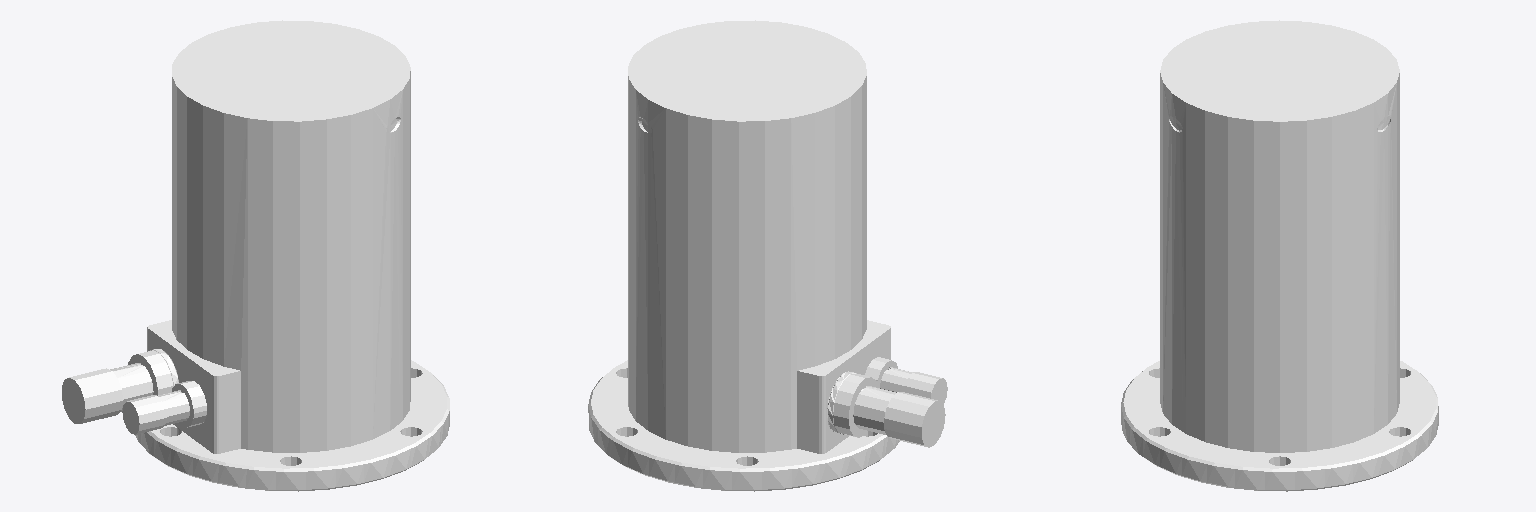
The robot description file, URDF, robot "xarm6":
<?xml version="1.0" encoding="utf-8"?>
<robot name="xarm6">
  <link name="world"/>
  <joint name="world_joint" type="fixed">
    <parent link="world"/>
    <child link="link_base"/>
    <origin rpy="0 0 0" xyz="0 0 0"/>
  </joint>
  <material name="Black">
    <color rgba="0.0 0.0 0.0 1.0"/>
  </material>
  <material name="Red">
    <color rgba="0.8 0.0 0.0 1.0"/>
  </material>
  <material name="White">
    <color rgba="1.0 1.0 1.0 1.0"/>
  </material>
  <material name="Silver">
    <color rgba="0.753 0.753 0.753 1.0"/>
  </material>
  <link name="link_base">
    <visual>
      <geometry>
        <mesh filename="meshes/visual/base.stl"/>
      </geometry>
      <origin rpy="0 0 0" xyz="0 0 0"/>
      <material name="White"/>
    </visual>
    <collision>
      <geometry>
        <mesh filename="meshes/visual/base.stl"/>
      </geometry>
      <origin rpy="0 0 0" xyz="0 0 0"/>
    </collision>
    <inertial>
      <origin rpy="0 0 0" xyz="0.0 0.0 0.09103"/>
      <mass value="2.7"/>
      <inertia ixx="0.00494875" ixy="-3.5E-06" ixz="1.25E-05" iyy="0.00494174" iyz="1.67E-06" izz="0.002219"/>
    </inertial>
  </link>
  <link name="link1">
    <visual>
      <geometry>
        <mesh filename="meshes/visual/link1.stl"/>
      </geometry>
      <origin rpy="0 0 0" xyz="0 0 0"/>
      <material name="White"/>
    </visual>
    <collision>
      <geometry>
        <mesh filename="meshes/visual/link1.stl"/>
      </geometry>
      <origin rpy="0 0 0" xyz="0 0 0"/>
    </collision>
    <inertial>
      <origin rpy="0 0 0" xyz="-0.002 0.02692 -0.01332"/>
      <mass value="2.16"/>
      <inertia ixx="0.00539427" ixy="1.095E-05" ixz="1.635E-06" iyy="0.0048979" iyz="0.000793" izz="0.00311573"/>
    </inertial>
  </link>
  <joint name="joint1" type="revolute">
    <parent link="link_base"/>
    <child link="link1"/>
    <origin rpy="0 0 0" xyz="0 0 0.267"/>
    <axis xyz="0 0 1"/>
    <limit effort="50.0" lower="-6.28318530718" upper="6.28318530718" velocity="3.14"/>
    <dynamics damping="1.0" friction="1.0"/>
  </joint>
  <link name="link2">
    <visual>
      <geometry>
        <mesh filename="meshes/visual/link2.stl"/>
      </geometry>
      <origin rpy="0 0 0" xyz="0 0 0"/>
      <material name="White"/>
    </visual>
    <collision>
      <geometry>
        <mesh filename="meshes/visual/link2.stl"/>
      </geometry>
      <origin rpy="0 0 0" xyz="0 0 0"/>
    </collision>
    <inertial>
      <origin rpy="0 0 0" xyz="0.03531 -0.21398 0.03386"/>
      <mass value="1.71"/>
      <inertia ixx="0.0248674" ixy="-0.00430651" ixz="-0.00067797" iyy="0.00485548" iyz="0.00457245" izz="0.02387827"/>
    </inertial>
  </link>
  <joint name="joint2" type="revolute">
    <parent link="link1"/>
    <child link="link2"/>
    <origin rpy="-1.5708 0 0" xyz="0 0 0"/>
    <axis xyz="0 0 1"/>
    <limit effort="50.0" lower="-2.059" upper="2.0944" velocity="3.14"/>
    <dynamics damping="1.0" friction="1.0"/>
  </joint>
  <link name="link3">
    <visual>
      <geometry>
        <mesh filename="meshes/visual/link3.stl"/>
      </geometry>
      <origin rpy="0 0 0" xyz="0 0 0"/>
      <material name="White"/>
    </visual>
    <collision>
      <geometry>
        <mesh filename="meshes/visual/link3.stl"/>
      </geometry>
      <origin rpy="0 0 0" xyz="0 0 0"/>
    </collision>
    <inertial>
      <origin rpy="0 0 0" xyz="0.06781 0.10749 0.01457"/>
      <mass value="1.384"/>
      <inertia ixx="0.0053694" ixy="0.0014185" ixz="-0.00092094" iyy="0.0032423" iyz="-0.00169178" izz="0.00501731"/>
    </inertial>
  </link>
  <joint name="joint3" type="revolute">
    <parent link="link2"/>
    <child link="link3"/>
    <origin rpy="0 0 0" xyz="0.0535 -0.2845 0"/>
    <axis xyz="0 0 1"/>
    <limit effort="32.0" lower="-3.927" upper="0.19198" velocity="3.14"/>
    <dynamics damping="1.0" friction="1.0"/>
  </joint>
  <link name="link4">
    <visual>
      <geometry>
        <mesh filename="meshes/visual/link4.stl"/>
      </geometry>
      <origin rpy="0 0 0" xyz="0 0 0"/>
      <material name="White"/>
    </visual>
    <collision>
      <geometry>
        <mesh filename="meshes/visual/link4.stl"/>
      </geometry>
      <origin rpy="0 0 0" xyz="0 0 0"/>
    </collision>
    <inertial>
      <origin rpy="0 0 0" xyz="-0.00021 0.02578 -0.02538"/>
      <mass value="1.115"/>
      <inertia ixx="0.00439263" ixy="5.028E-05" ixz="1.374E-05" iyy="0.0040077" iyz="0.00045338" izz="0.00110321"/>
    </inertial>
  </link>
  <joint name="joint4" type="revolute">
    <parent link="link3"/>
    <child link="link4"/>
    <origin rpy="-1.5708 0 0" xyz="0.0775 0.3425 0"/>
    <axis xyz="0 0 1"/>
    <limit effort="32.0" lower="-6.28318530718" upper="6.28318530718" velocity="3.14"/>
    <dynamics damping="1.0" friction="1.0"/>
  </joint>
  <link name="link5">
    <visual>
      <geometry>
        <mesh filename="meshes/visual/link5.stl"/>
      </geometry>
      <origin rpy="0 0 0" xyz="0 0 0"/>
      <material name="White"/>
    </visual>
    <collision>
      <geometry>
        <mesh filename="meshes/visual/link5.stl"/>
      </geometry>
      <origin rpy="0 0 0" xyz="0 0 0"/>
    </collision>
    <inertial>
      <origin rpy="0 0 0" xyz="0.05428 0.01781 0.00543"/>
      <mass value="1.275"/>
      <inertia ixx="0.001202758" ixy="0.000492428" ixz="-0.00039147" iyy="0.0022876" iyz="-1.235E-04" izz="0.0026866"/>
    </inertial>
  </link>
  <joint name="joint5" type="revolute">
    <parent link="link4"/>
    <child link="link5"/>
    <origin rpy="1.5708 0 0" xyz="0 0 0"/>
    <axis xyz="0 0 1"/>
    <limit effort="32.0" lower="-1.69297" upper="3.14159265359" velocity="3.14"/>
    <dynamics damping="1.0" friction="1.0"/>
  </joint>
  <link name="link6">
    <visual>
      <geometry>
        <mesh filename="meshes/visual/link6.stl"/>
      </geometry>
      <origin rpy="0 0 0" xyz="0 0 0"/>
      <material name="Silver"/>
    </visual>
    <collision>
      <geometry>
        <mesh filename="meshes/visual/link6.stl"/>
      </geometry>
      <origin rpy="0 0 0" xyz="0 0 0"/>
    </collision>
    <inertial>
      <origin rpy="0 0 0" xyz="0 0.00064 -0.00952"/>
      <mass value="0.1096"/>
      <inertia ixx="4.5293E-05" ixy="0" ixz="0" iyy="4.8111E-05" iyz="0" izz="7.9715E-05"/>
    </inertial>
  </link>
  <joint name="joint6" type="revolute">
    <parent link="link5"/>
    <child link="link6"/>
    <origin rpy="-1.5708 0 0" xyz="0.076 0.097 0"/>
    <axis xyz="0 0 1"/>
    <limit effort="20.0" lower="-6.28318530718" upper="6.28318530718" velocity="3.14"/>
    <dynamics damping="1.0" friction="1.0"/>
  </joint>
  <link name="link_eef"/>
  <joint name="joint_eef" type="fixed">
    <origin rpy="0 0 0" xyz="0 0 0"/>
    <parent link="link6"/>
    <child link="link_eef"/>
  </joint>
</robot>

--- What the picture shows (computed from the rendered views, not written in the file) ---
3 views of the same robot in one strip: view 1: azimuth 30°, elevation 25°; view 2: azimuth 150°, elevation 25°; view 3: azimuth 270°, elevation 25° (orthographic).
Model xarm6 with 9 links and 8 joints (6 revolute, 2 fixed), rooted at world, posed all joints at 0.
Visible links, largest first — view 1: link_base; view 2: link_base; view 3: link_base.
Boxes of the visible links, x1,y1,x2,y2 form: link_base: [62, 20, 449, 491]; link_base: [588, 20, 947, 491]; link_base: [1121, 20, 1438, 491].
Size in the robot's own frame: 0.1552 by 0.126 by 0.1548 metres.
Meshes: 7 distinct files referenced, 1 mesh visuals loaded (1 binary STL); not drawn: 6 (reference not matched to a file when rendering).